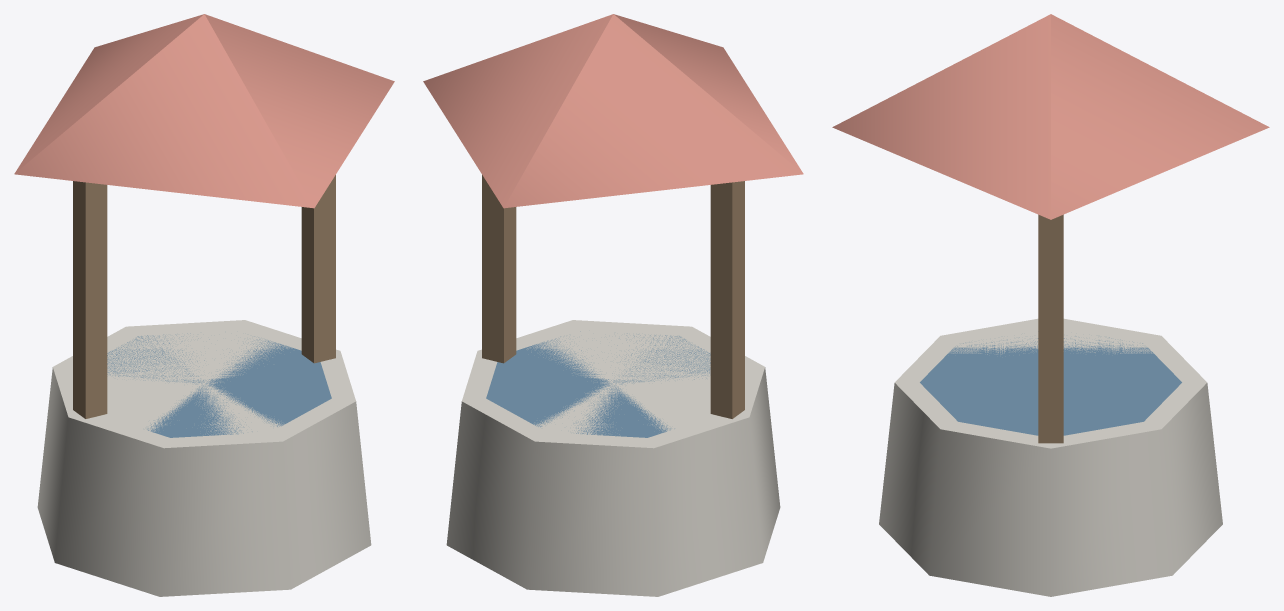
Rendered from well.glb.
3 renders of one model, left to right at view 1: azimuth 30°, elevation 25°; view 2: azimuth 150°, elevation 25°; view 3: azimuth 270°, elevation 25°, orthographic.
Visible parts, largest first — view 1: well; view 2: well; view 3: well.
Boxes of the visible parts, <box> form: well: <box>14,14,394,596</box>; well: <box>423,14,803,596</box>; well: <box>832,14,1269,596</box>.
Bounding box in the file's own units: 1.4 × 1.8 × 1.4.
